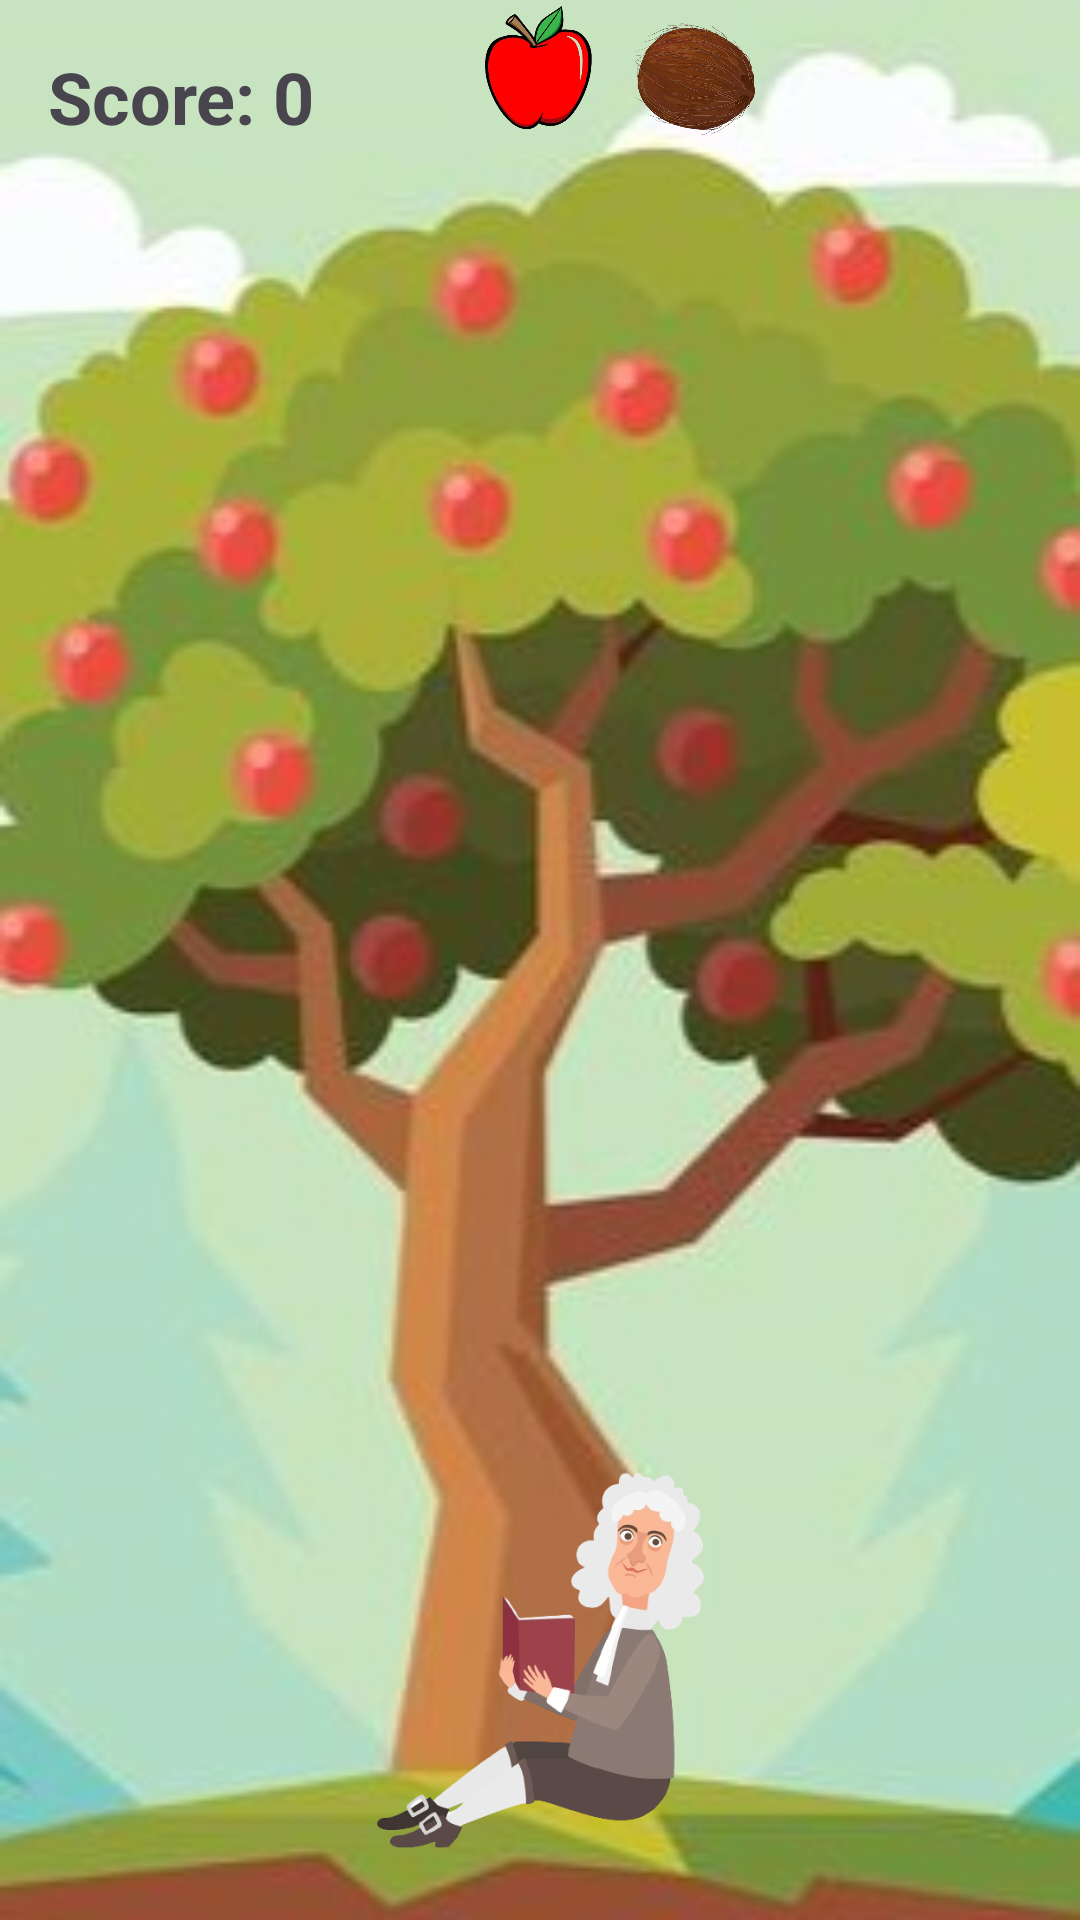

Named icons in this screenshot (1080px x 1920px) and their centers, [x,y]:
apple: [538,67]
coconut: [693,79]
